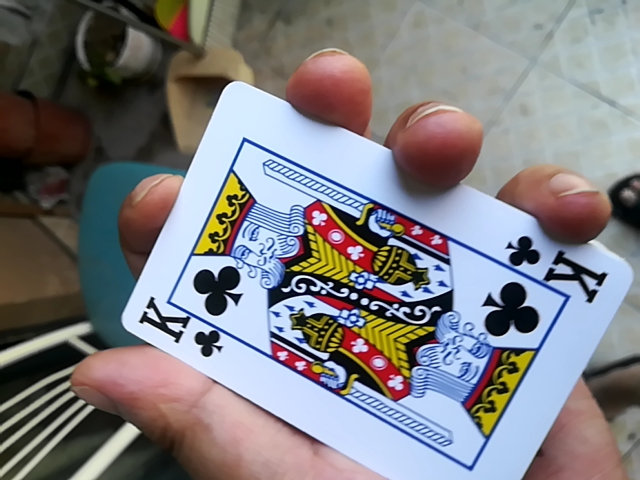mh k: (92, 81, 635, 480)
